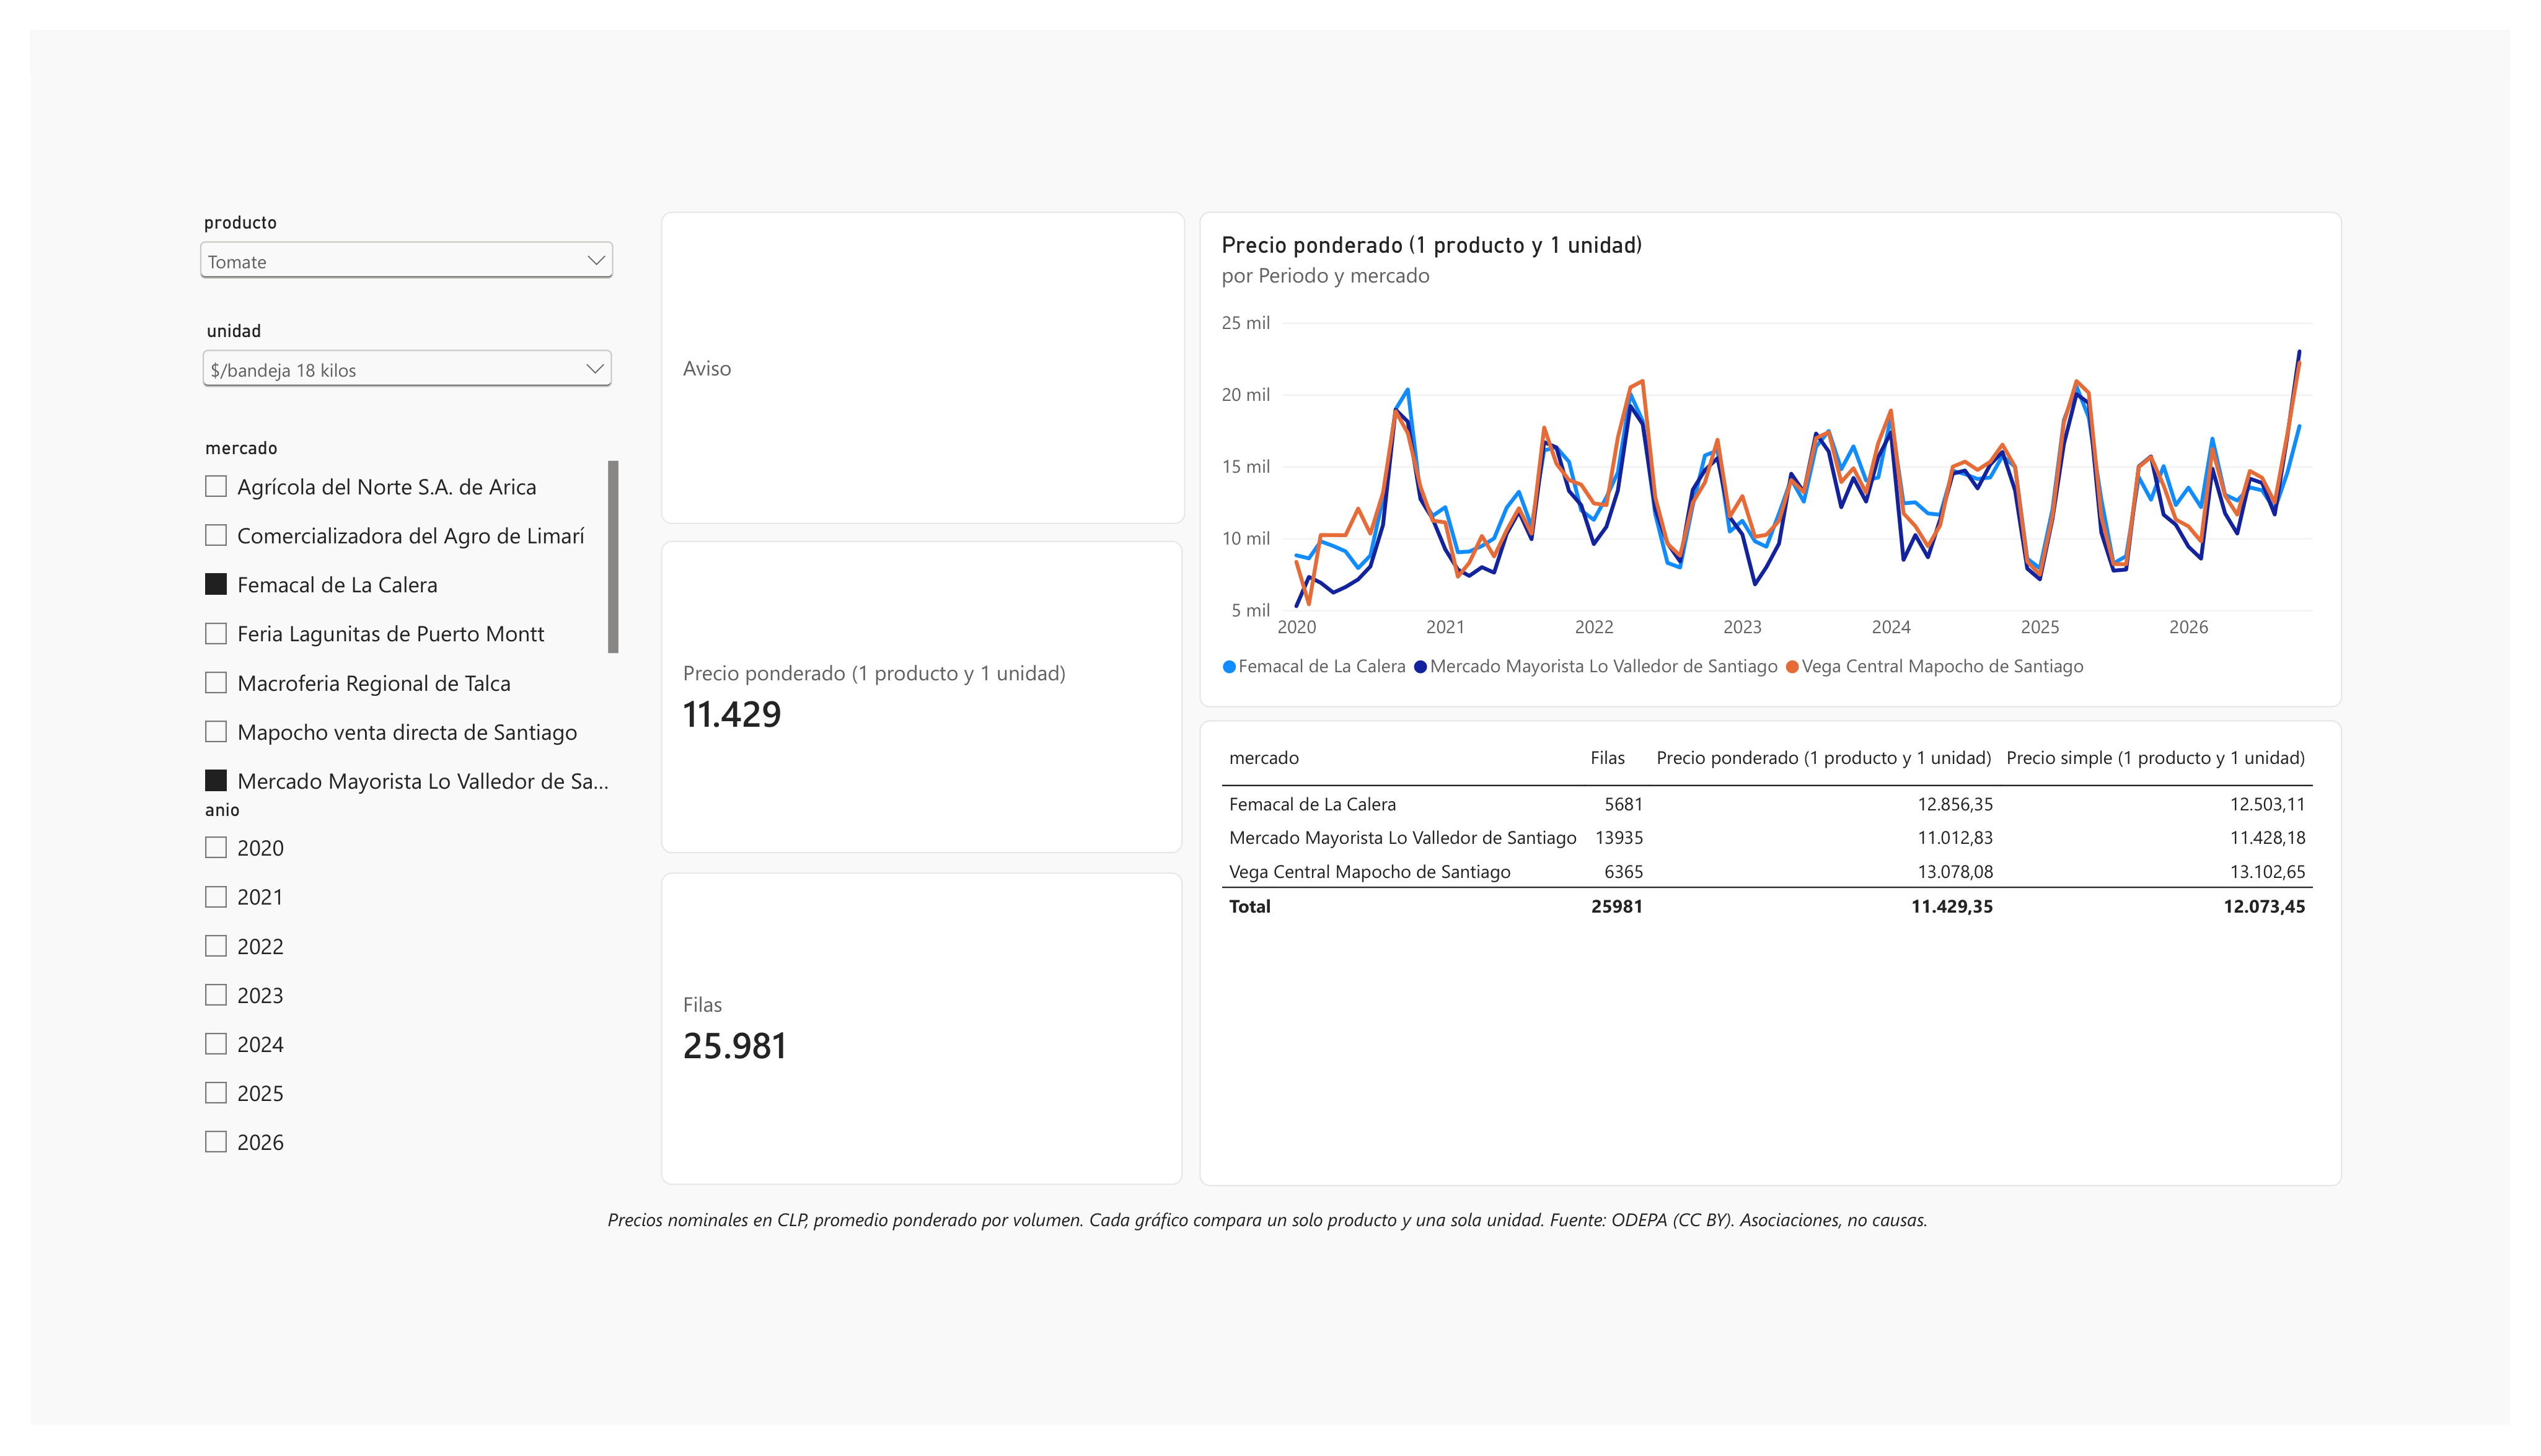

The dashboard page shown, as its layout file describes it:
{"tool":"powerbi","page":{"name":"Página 2 -Precios","canvas":[1920,1080],"ordinal":1},"visuals":[{"type":"slicer","fields":{"Values":["precios.mercado"]},"box":[126.6,315,328,280],"z":0},{"type":"slicer","fields":{"Values":["precios.anio"]},"box":[126.6,595,328,300],"z":1000},{"type":"textbox","box":[126.2,911.2,1663.8,27.5],"z":2000},{"type":"cardVisual","fields":{"Data":["precios.Aviso"]},"box":[488.1,140,406.9,242.5],"z":3000},{"type":"cardVisual","fields":{"Data":["precios.Precio ponderado (texto)"]},"box":[487.5,394.6,404.9,242.5],"z":4000},{"type":"slicer","fields":{"Values":["precios.unidad"]},"box":[127.6,224,327,76],"z":5000},{"type":"cardVisual","fields":{"Data":["precios.Filas (texto)"]},"box":[487.5,652.5,404.9,242.5],"z":6000},{"type":"lineChart","fields":{"Category":["precios.Periodo"],"Series":["precios.mercado"],"Y":["precios.Precio ponderado (1 producto y 1 unidad)"]},"box":[905,140,885,384.3],"z":7000},{"type":"tableEx","fields":{"Values":["precios.mercado","precios.Filas","precios.Precio ponderado (1 producto y 1 unidad)","precios.Precio simple (1 producto y 1 unidad)"]},"box":[905,534.4,885,360.6],"z":8000},{"type":"slicer","fields":{"Values":["precios.producto"]},"box":[125.7,140,330,74.3],"z":8001}]}

Visuals, with their boxes on the page's 1920x1080 design canvas (x1, y1, x2, y2). These are canvas units, not pixel positions in the 2541x1456 screenshot, which may show the page scaled, cropped or inside an application window:
slicer - precios.mercado: region(127, 315, 455, 595)
slicer - precios.anio: region(127, 595, 455, 895)
textbox: region(126, 911, 1790, 939)
cardVisual - precios.Aviso: region(488, 140, 895, 382)
cardVisual - precios.Precio ponderado (texto): region(488, 395, 892, 637)
slicer - precios.unidad: region(128, 224, 455, 300)
cardVisual - precios.Filas (texto): region(488, 652, 892, 895)
lineChart - precios.Periodo x precios.mercado: region(905, 140, 1790, 524)
tableEx - precios.mercado x precios.Filas: region(905, 534, 1790, 895)
slicer - precios.producto: region(126, 140, 456, 214)
